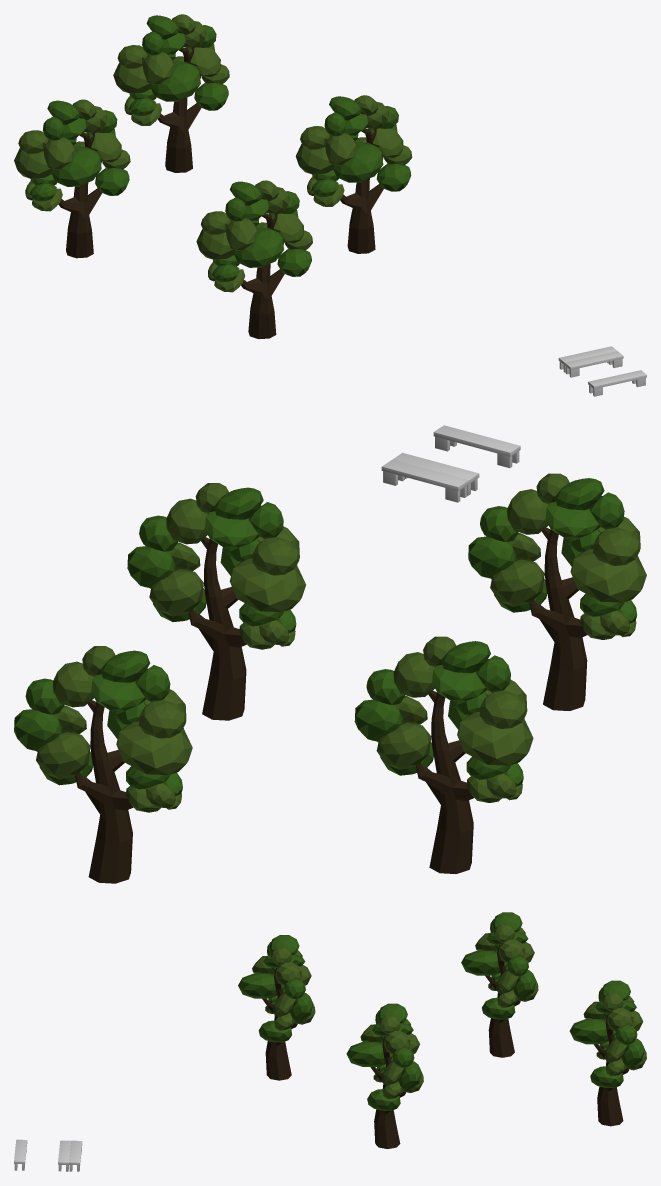
Rendered from arboles.obj.
3 views of the same model, one above another, from view 1: azimuth 30°, elevation 25°; view 2: azimuth 150°, elevation 25°; view 3: azimuth 270°, elevation 25° (orthographic). The views are drawn at different scales.
Visible parts, largest first — view 1: Oak_Cylinder.004, Bench_Cube.003, Bench_2_Cube.004; view 2: Oak_Cylinder.004, Bench_Cube.003, Bench_2_Cube.004; view 3: Oak_Cylinder.004, Bench_Cube.003.
Part boxes in pixels (x1,y1,x2,y2): Oak_Cylinder.004: [14, 14, 412, 338]; Bench_Cube.003: [558, 346, 623, 377]; Bench_2_Cube.004: [588, 370, 646, 396]; Oak_Cylinder.004: [14, 473, 646, 883]; Bench_Cube.003: [381, 452, 479, 502]; Bench_2_Cube.004: [433, 425, 520, 468]; Oak_Cylinder.004: [238, 912, 646, 1148]; Bench_Cube.003: [58, 1140, 82, 1171].
Bounding box in the file's own units: 2.87 × 1.2 × 5.25.
